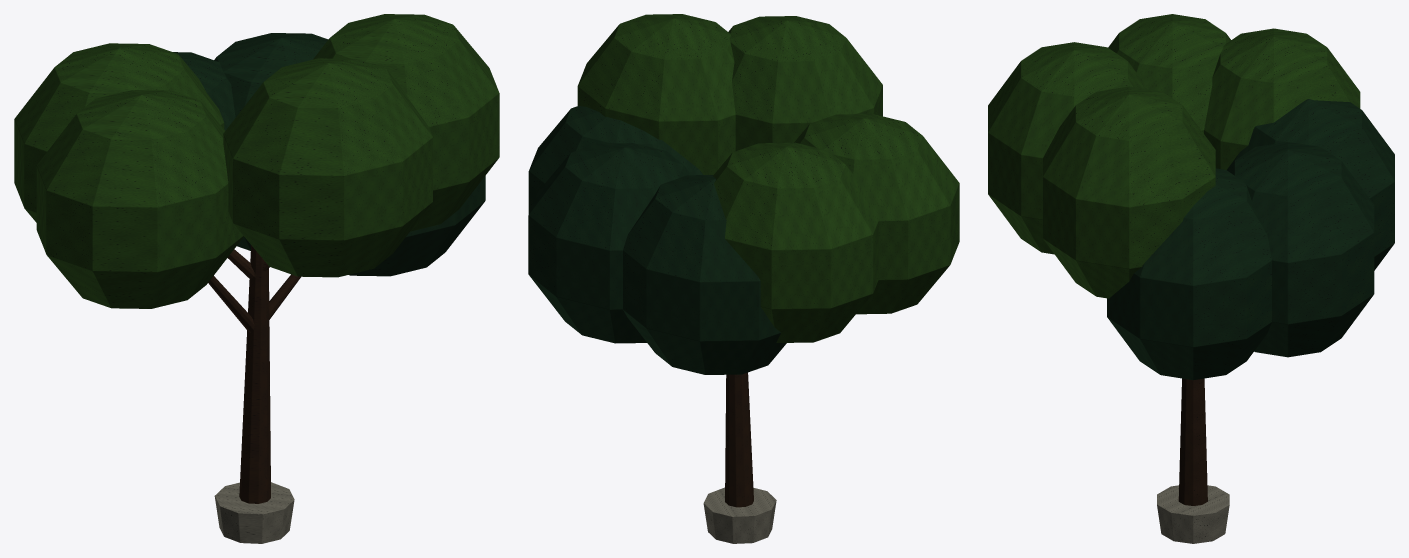
File: PROP-74F7C6896AD0_lod1.glb
The picture shows the model from 3 angles, left to right: view 1: azimuth 30°, elevation 25°; view 2: azimuth 150°, elevation 25°; view 3: azimuth 270°, elevation 25°; orthographic projection. The views are drawn at different scales.
Visible parts, largest first — view 1: leaf_crown.011, leaf_crown.010, trunk.017, tree_planter.001, branch.005; view 2: leaf_crown.011, leaf_crown.010, trunk.017, tree_planter.001; view 3: leaf_crown.011, leaf_crown.010, trunk.017, tree_planter.001.
Part boxes in pixels (x1,y1,x2,y2): leaf_crown.011: (14,14,499,308); leaf_crown.010: (173,33,485,276); trunk.017: (239,245,270,503); tree_planter.001: (214,482,294,543); branch.005: (208,249,300,332); leaf_crown.011: (577,14,959,342); leaf_crown.010: (528,106,786,374); trunk.017: (725,372,753,507); tree_planter.001: (703,487,776,543); leaf_crown.011: (988,14,1360,298); leaf_crown.010: (1107,99,1394,380); trunk.017: (1178,378,1207,505); tree_planter.001: (1157,485,1229,543).
Bounding box in the file's own units: 7.19 × 7.96 × 6.05.
4 materials, 4 textured.
